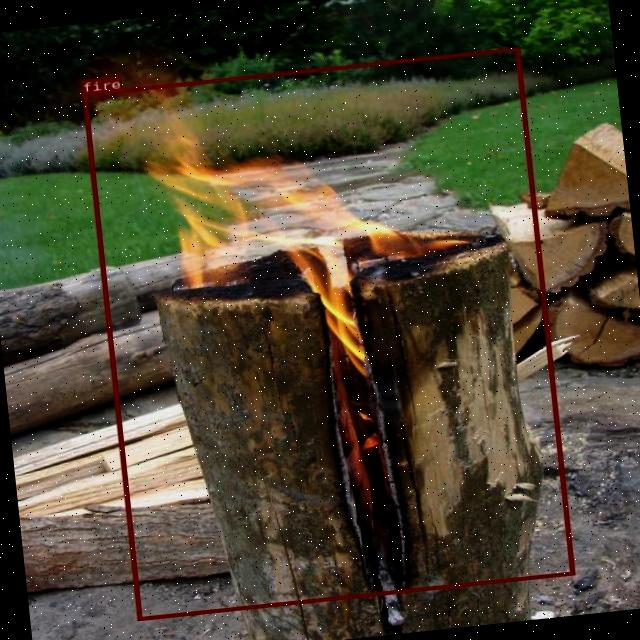fire: (81, 47, 574, 620)
